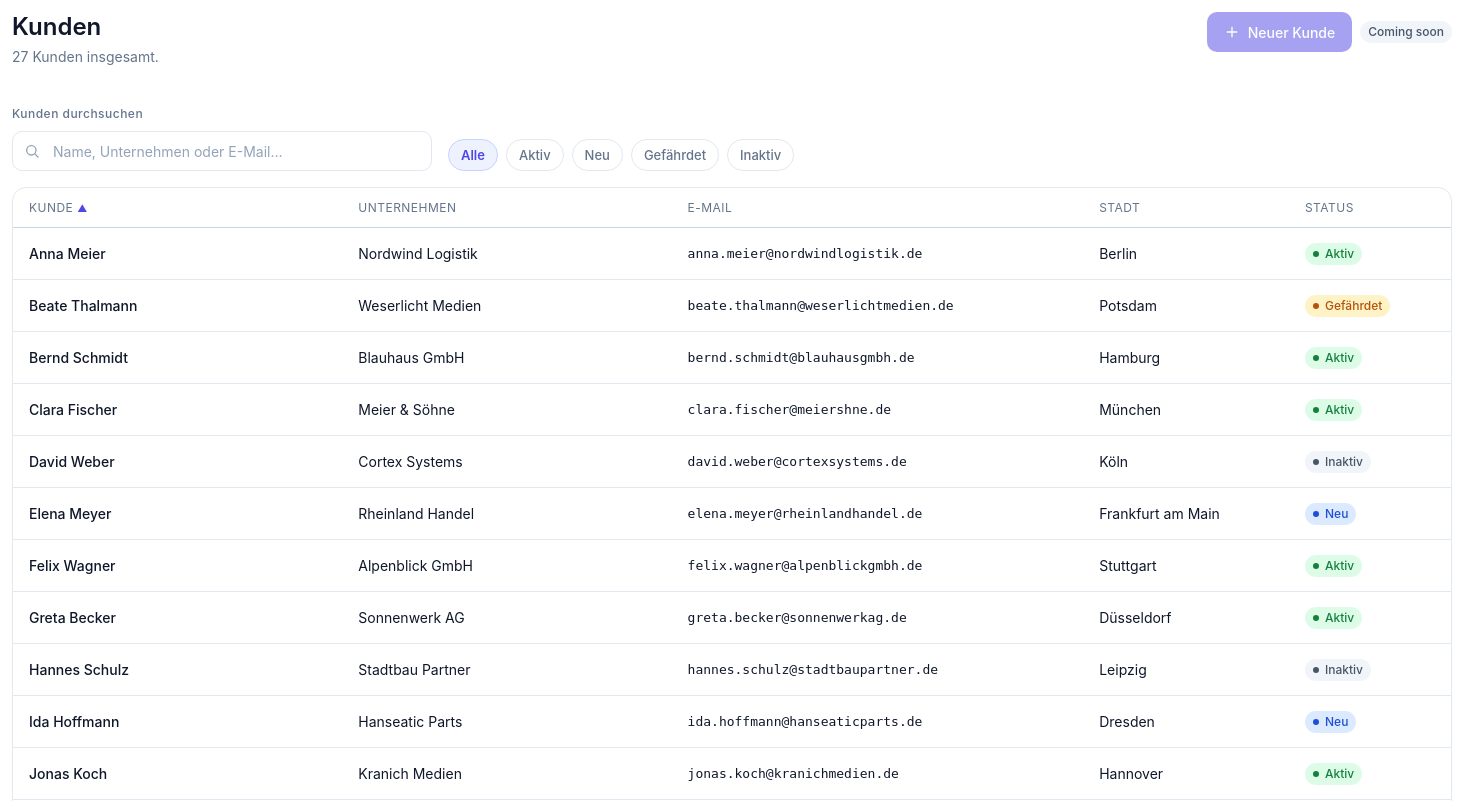
CustomerListScreen › narrows the list live while typing and restores all rows when cleared
The width and height of the screenshot is (1464, 801).
Type "Nordwind" into the search field labelled "Kunden durchsuchen" at (222, 151), box [12,131,432,171]
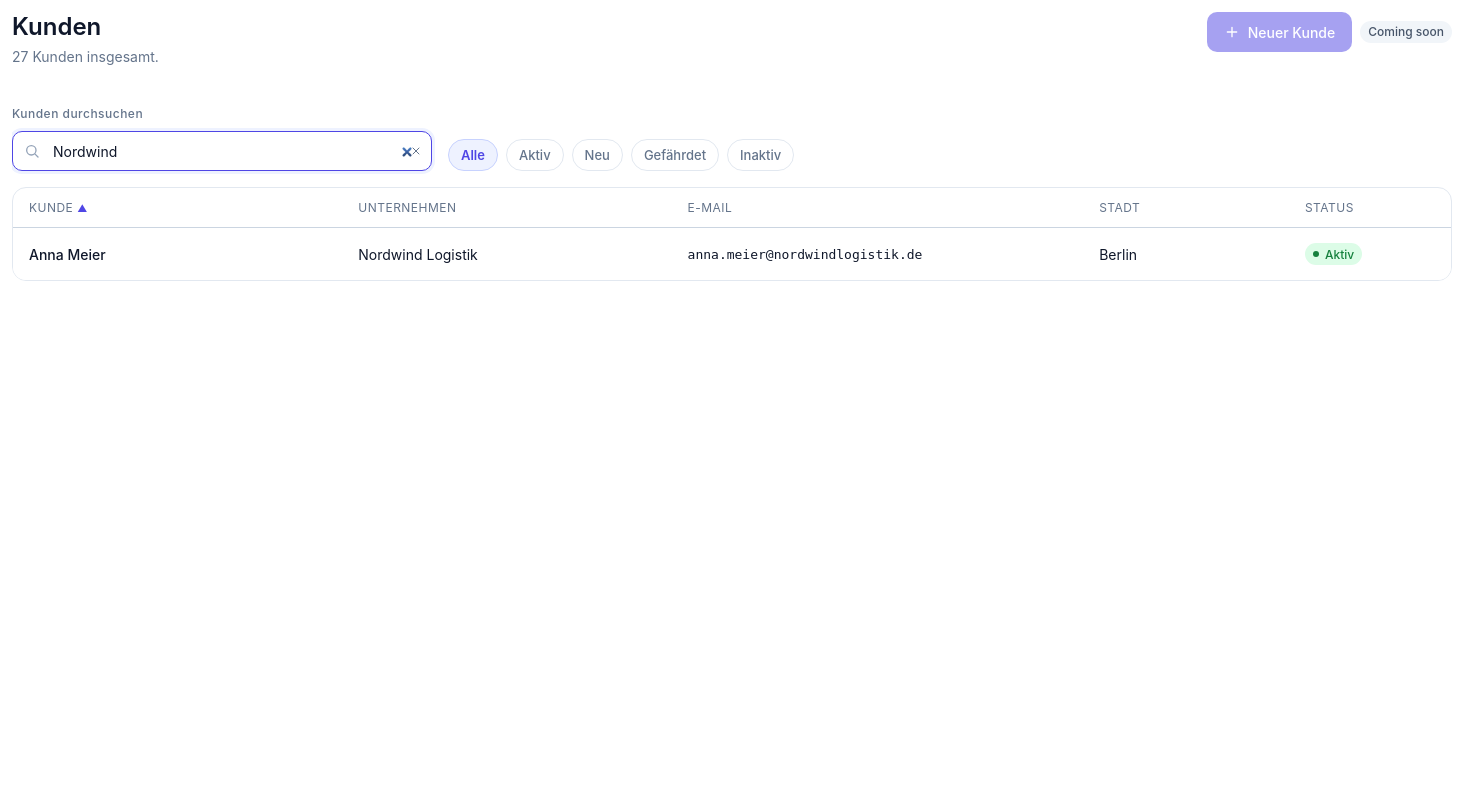
Expected: the text "Nordwind Logistik" is shown, [358,246,478,262]
Result: the number of buttons with test id "customer-row" is 1 at [13,228,1451,280]
Click the button named "Suche löschen" at (416, 151), box [404,139,428,163]
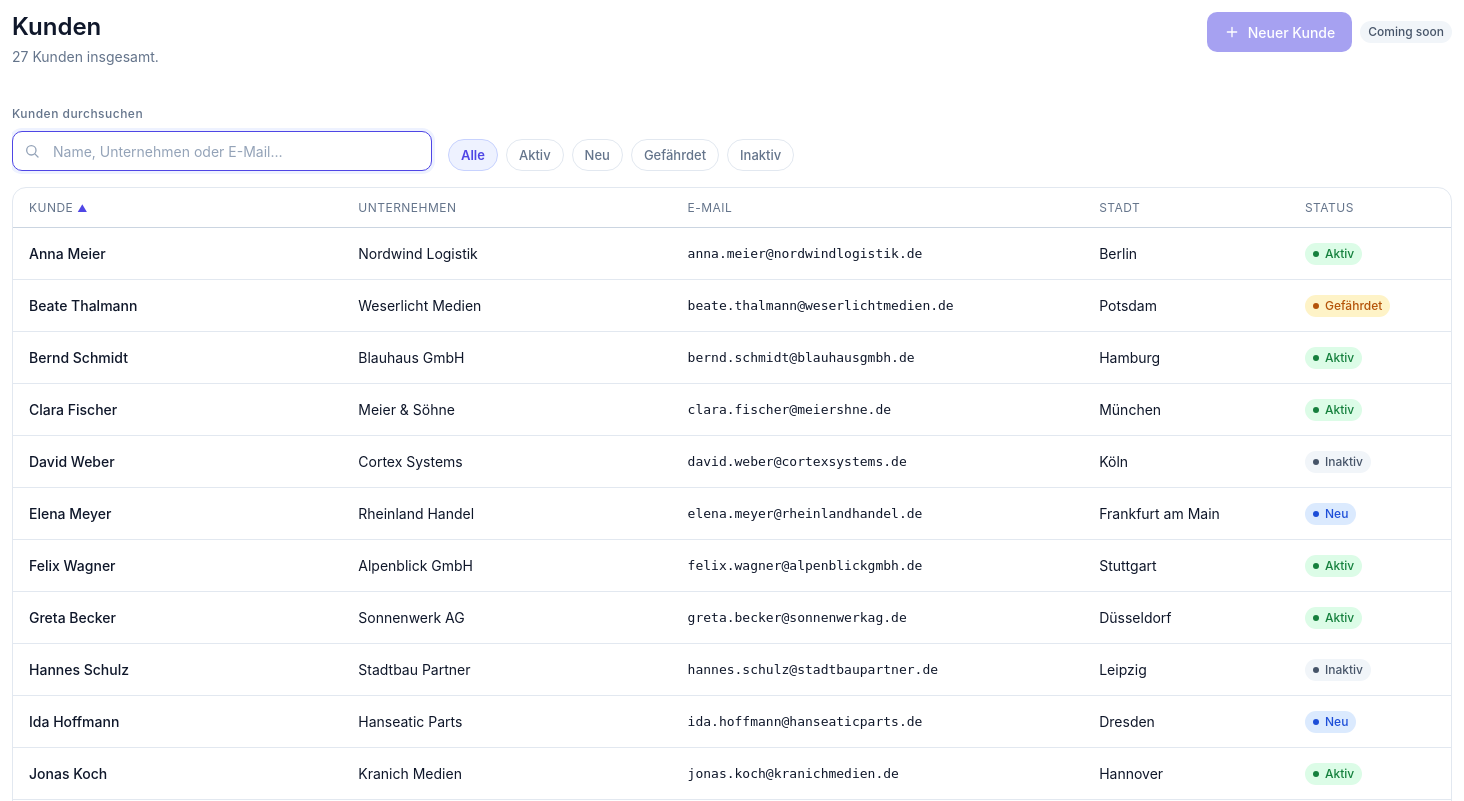
Result: the number of buttons with test id "customer-row" is 27
